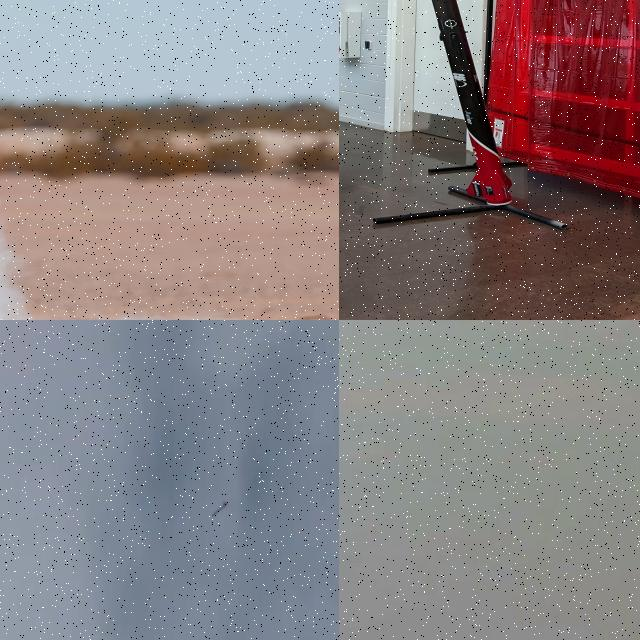Rocket: (431, 0, 513, 206), (212, 501, 227, 517)
